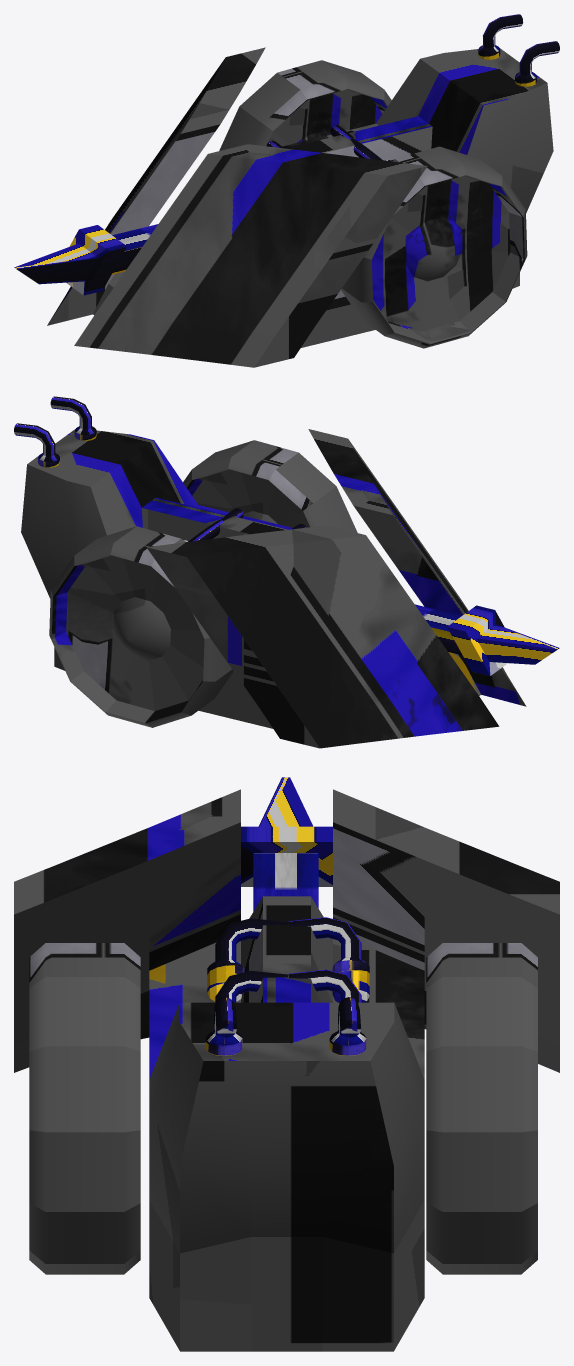
The model's file is CrackHammer.fbx.
The picture shows the model from 3 angles, top to bottom: view 1: azimuth 30°, elevation 25°; view 2: azimuth 150°, elevation 25°; view 3: azimuth 270°, elevation 25°; orthographic projection. The views are drawn at different scales.
Visible parts, largest first — view 1: polySurface154, polySurface139, polySurface161, polySurface128, polySurface160, polySurface159; view 2: polySurface154, polySurface161, polySurface139, polySurface128, polySurface160, polySurface159; view 3: polySurface154, polySurface139, polySurface161, polySurface128, polySurface157, polySurface158, polySurface159, polySurface160, polySurface156, polySurface155.
Boxes of the visible parts, x1,y1,x2,y2 form: polySurface154: (47,47,553,367); polySurface139: (341,146,527,348); polySurface161: (219,60,391,150); polySurface128: (14,224,158,295); polySurface160: (515,41,559,86); polySurface159: (478,14,523,59); polySurface154: (21,429,526,748); polySurface161: (49,526,233,727); polySurface139: (183,440,357,532); polySurface128: (415,604,559,675); polySurface160: (50,396,96,440); polySurface159: (14,423,59,467); polySurface154: (14,789,559,1351); polySurface139: (29,943,140,1274); polySurface161: (426,943,537,1274); polySurface128: (241,777,332,911); polySurface157: (288,917,369,1002); polySurface158: (207,918,288,1001); polySurface159: (329,997,366,1055); polySurface160: (205,997,242,1055); polySurface156: (288,969,361,1002); polySurface155: (215,970,288,1002).
Bounding box in the file's own units: 14.88 × 6.08 × 7.96.
